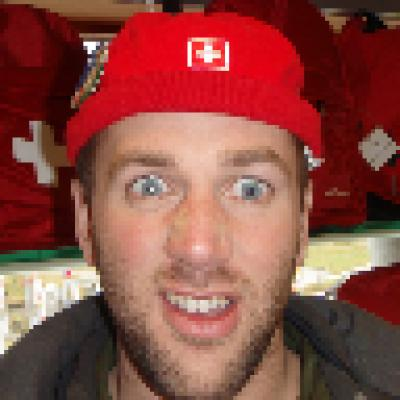surprise: (87, 82, 301, 386)
